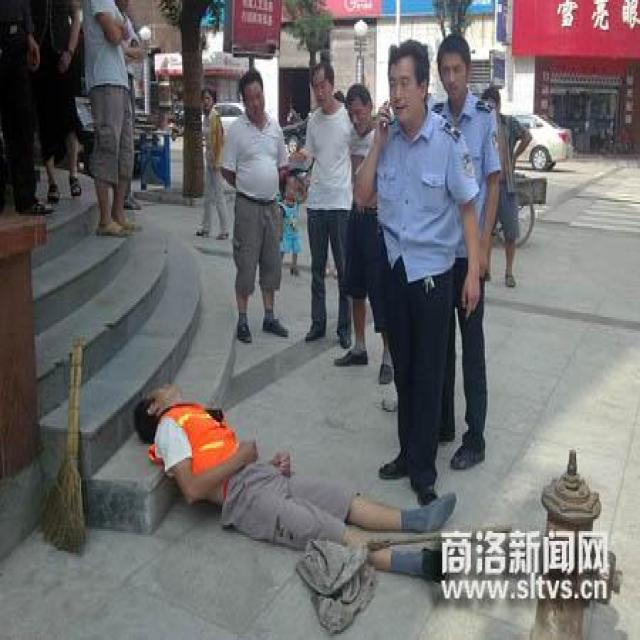10-: (10, 6, 548, 588)
down: (130, 365, 473, 618)
